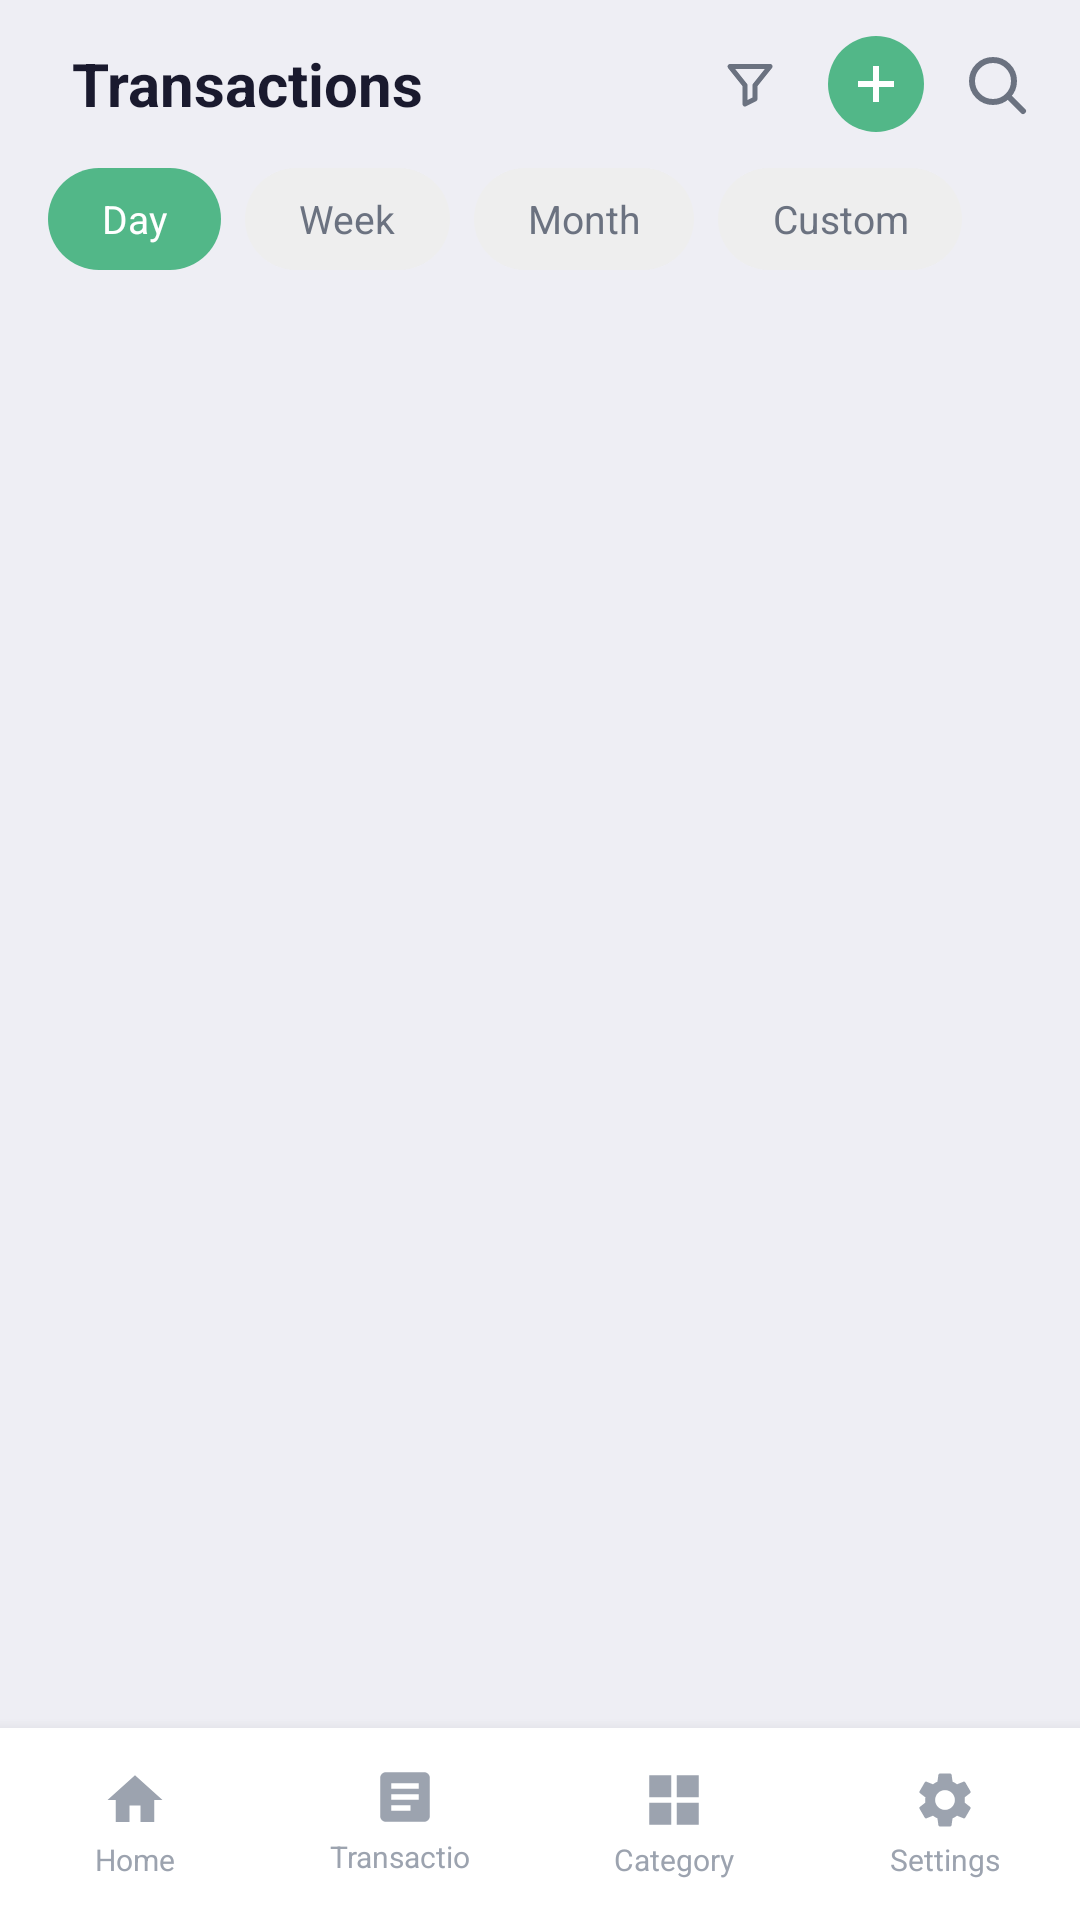

Named icons in this screenshot (1080*1920) and their bounding boxes, (x1, y1, x2, y2):
add circle: (828, 36, 924, 132)
filter: (727, 64, 773, 107)
search: (969, 57, 1026, 114)
